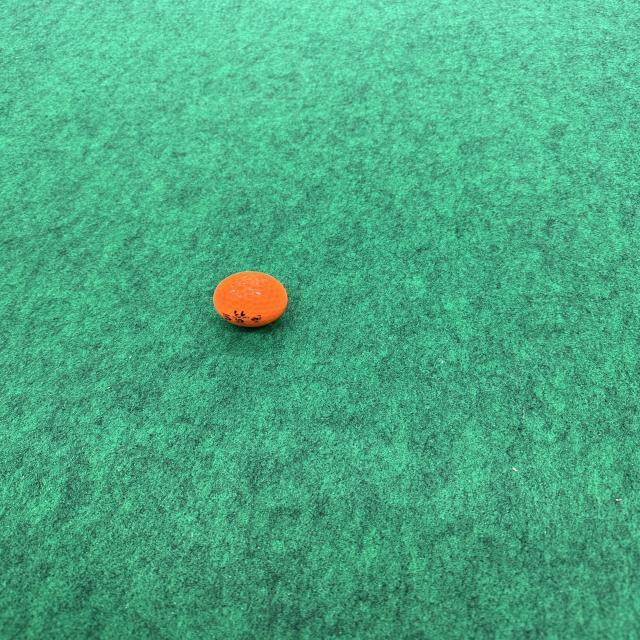ball: (212, 269, 288, 329)
